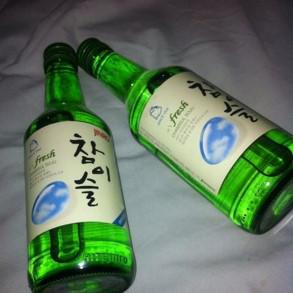soju: (22, 36, 293, 291)
